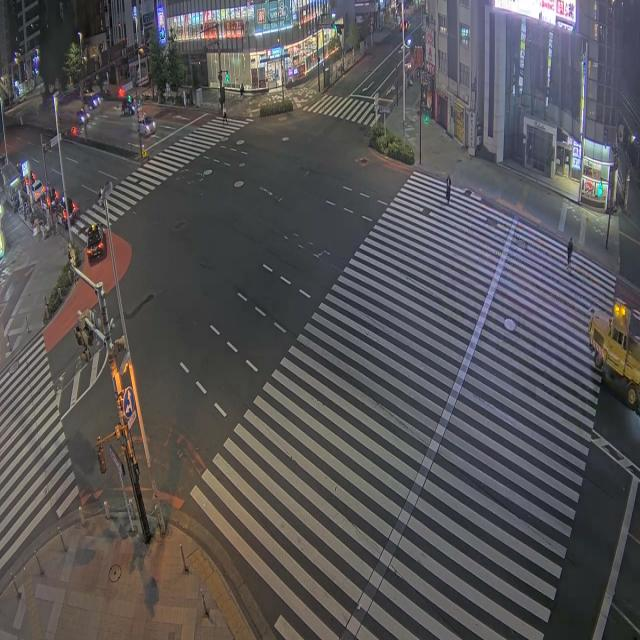car: (86, 224, 105, 261), (138, 116, 155, 135), (32, 180, 45, 201), (83, 93, 100, 109), (56, 196, 66, 223), (122, 99, 135, 115), (78, 110, 89, 124)
